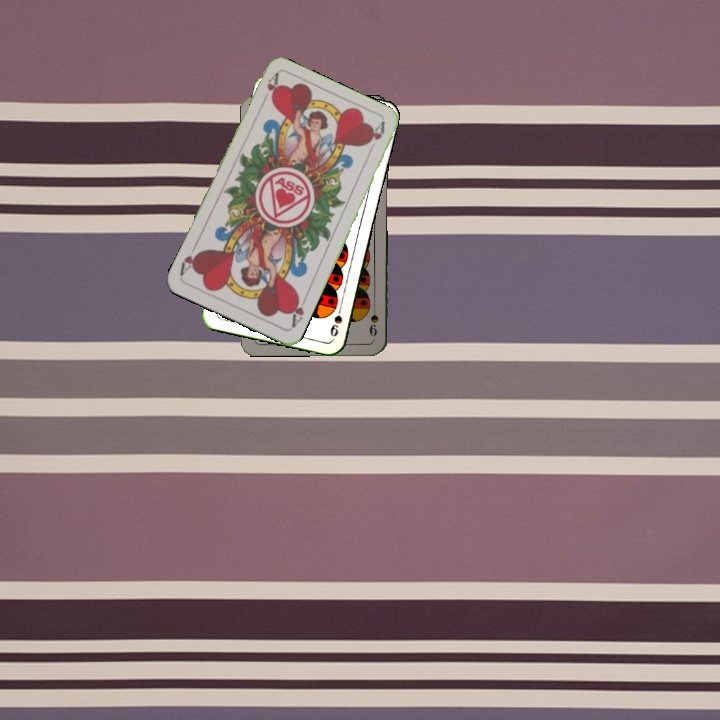HA: (286, 292, 310, 330), (257, 70, 281, 108)
S9: (326, 300, 345, 339), (366, 299, 381, 338)
